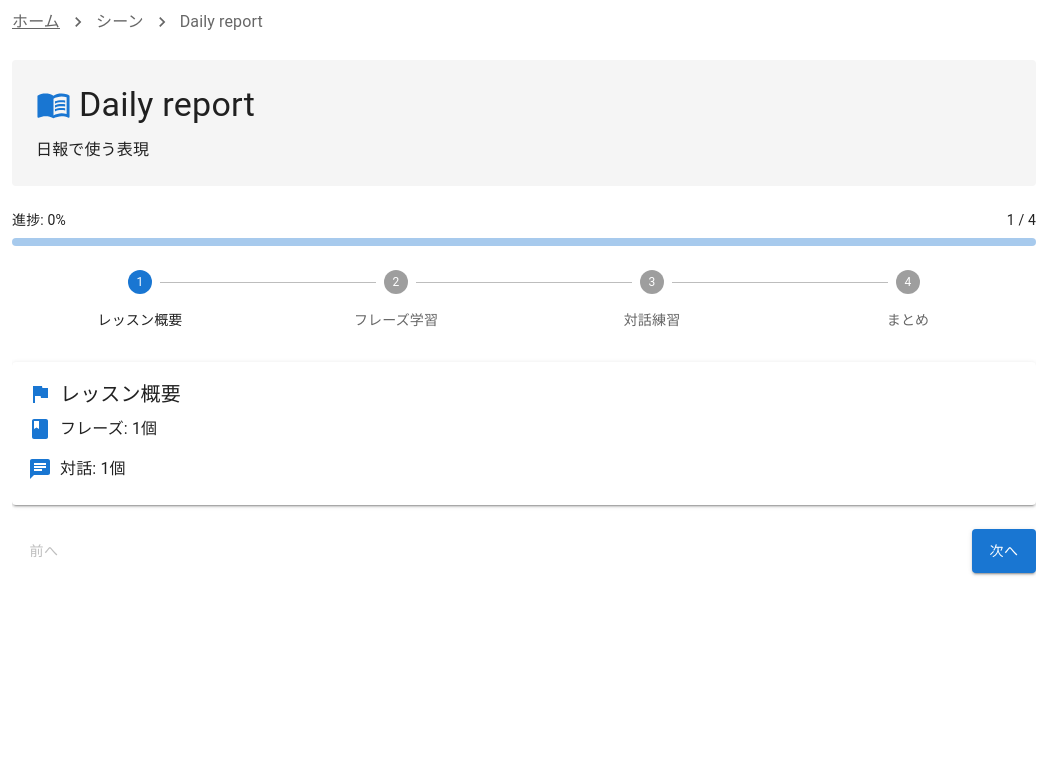
it: レッスン概要を表示し、ステップを進めてフレーズ・対話を表示する
Expected: the heading "Daily report" is shown, [36, 84, 255, 124]
Expected: the text "日報で使う表現" is shown, [36, 140, 149, 159]
Click the button "次へ": click(1004, 551) [972, 529, 1036, 573]
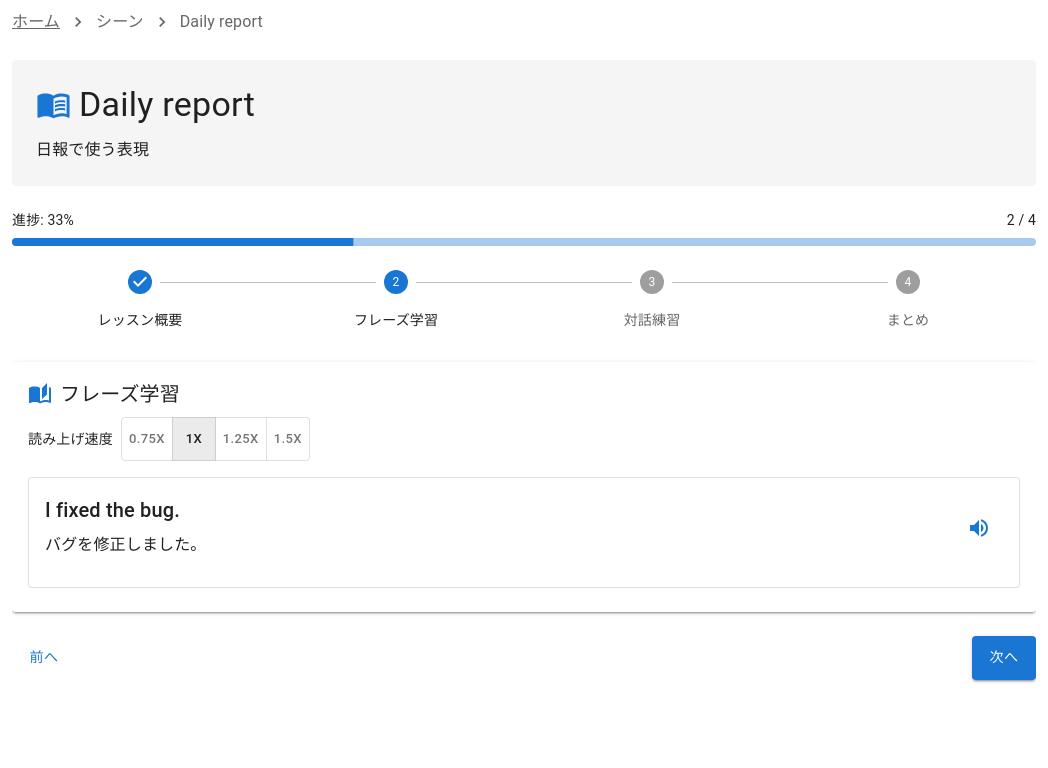
Result: the text "I fixed the bug." has attribute lang="en" at [45, 498, 180, 522]
Click the button "次へ": click(1004, 658) [972, 636, 1036, 680]
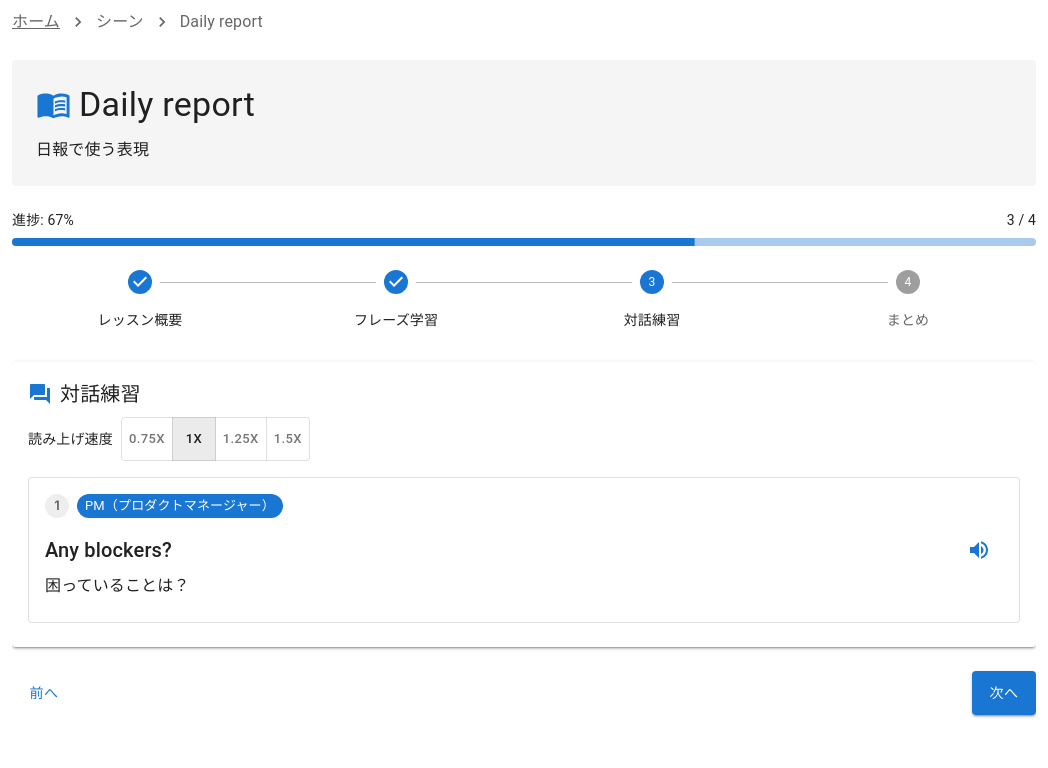
Result: the text "Any blockers?" is shown at [45, 534, 172, 566]
Result: the text "PM（プロダクトマネージャー）" is shown at [77, 496, 283, 516]
Click the button "前へ": click(44, 693) [12, 671, 76, 715]
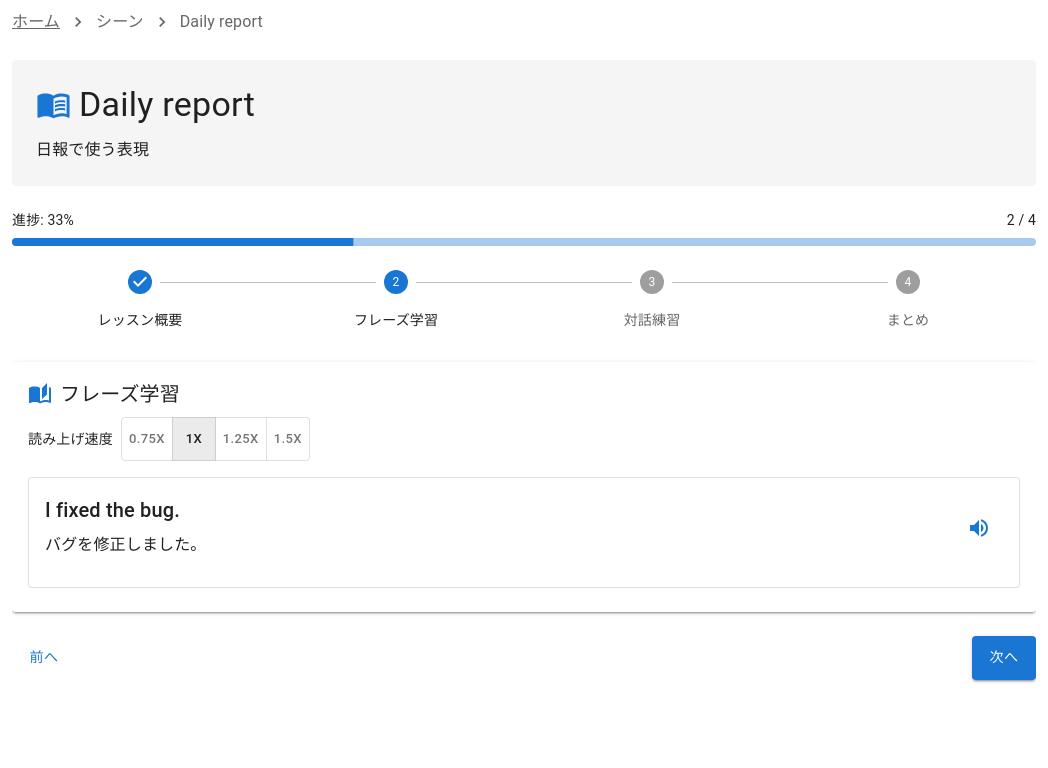
Result: the text "I fixed the bug." is shown at [45, 498, 180, 522]
